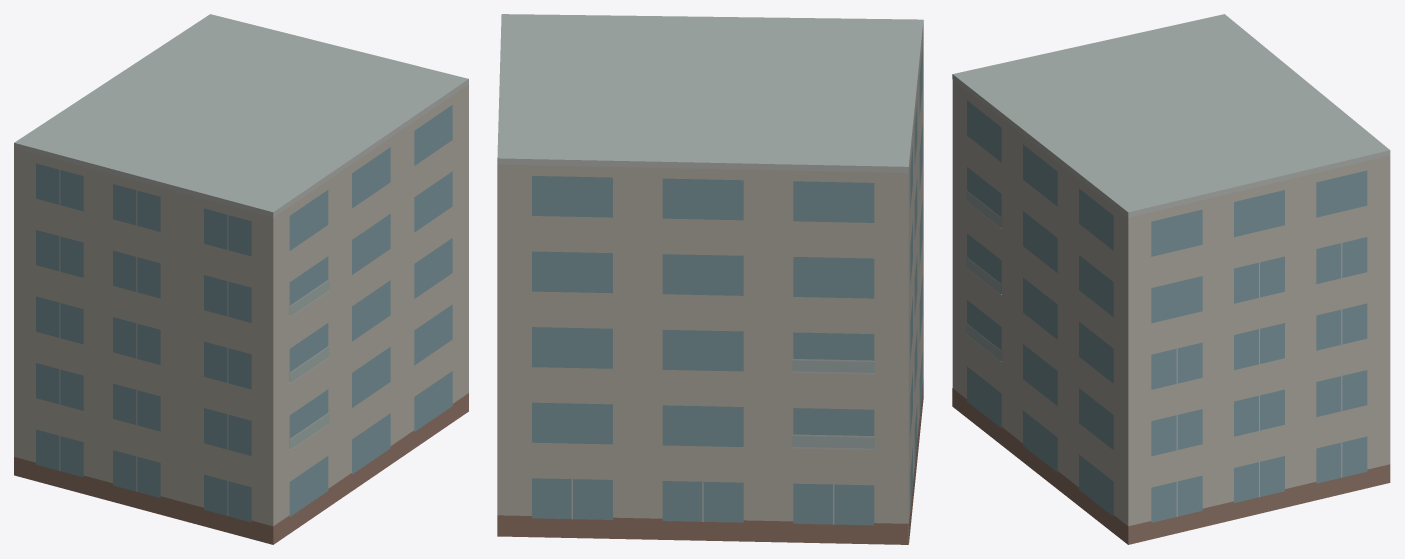
Rendered from survey-upis-32681790.glb.
3 views of the same model, side by side, from view 1: azimuth 30°, elevation 25°; view 2: azimuth 150°, elevation 25°; view 3: azimuth 270°, elevation 25° (orthographic). The views are drawn at different scales.
Visible parts, largest first — view 1: survey-upis-32681790.tmp; view 2: survey-upis-32681790.tmp; view 3: survey-upis-32681790.tmp.
Part boxes in pixels (left/top/right/bottom): survey-upis-32681790.tmp: left=14, top=14, right=468, bottom=544; survey-upis-32681790.tmp: left=497, top=14, right=923, bottom=544; survey-upis-32681790.tmp: left=952, top=14, right=1390, bottom=544.
Bounding box in the file's own units: 19.33 × 15.1 × 18.03.
